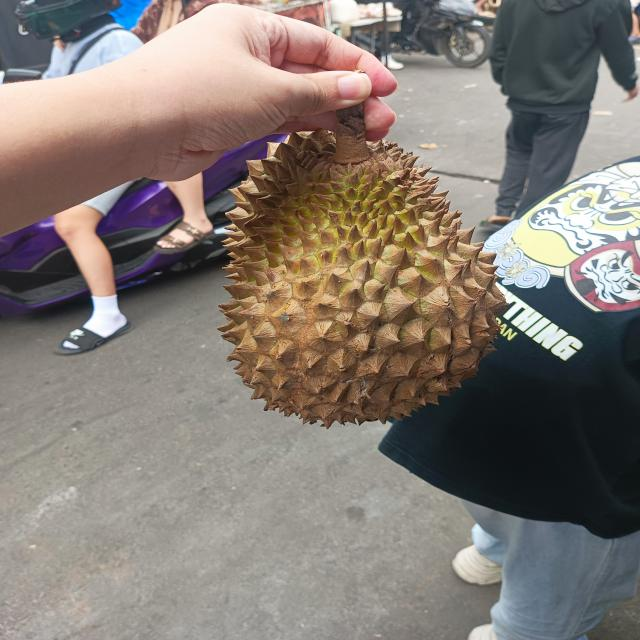mature: (214, 124, 503, 426)
